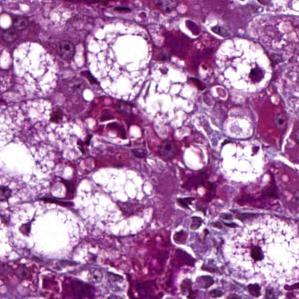ballooning: (83, 14, 156, 106), (71, 164, 158, 241), (5, 202, 91, 269), (220, 215, 296, 288), (214, 36, 276, 97)
